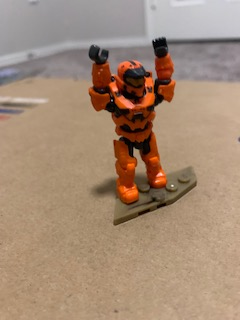spartan: (85, 36, 178, 205)
up: (86, 36, 177, 131)
